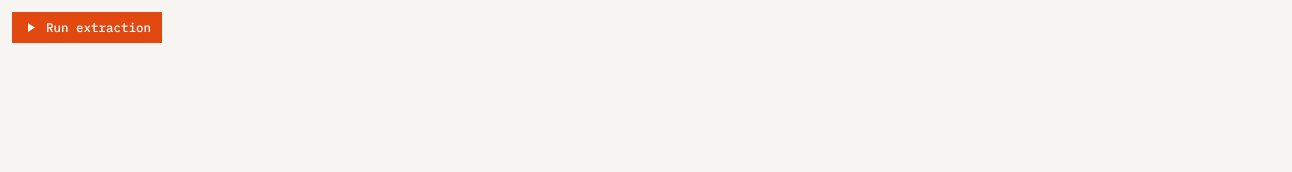
Test: failed blocks, by what a re-run would actually do › invites a re-run when the failure is retryable
Step 1. Click the button "Run extraction" → [87, 27], box top-left (12, 12), bottom-right (162, 43)
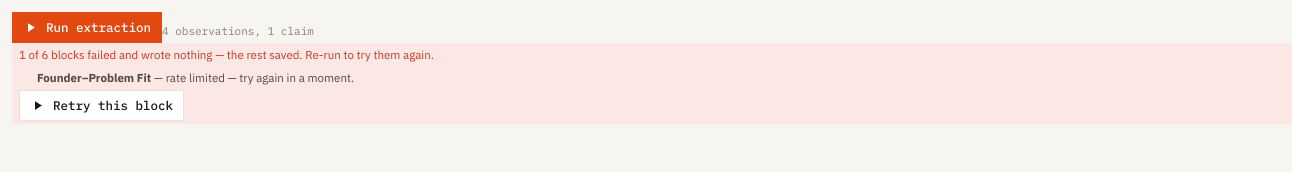
Expected: the text "Re-run to try" is shown, top-left (48, 47), bottom-right (434, 62)
Expected: the text "Founder–Problem Fit" is shown, top-left (37, 70), bottom-right (151, 85)
